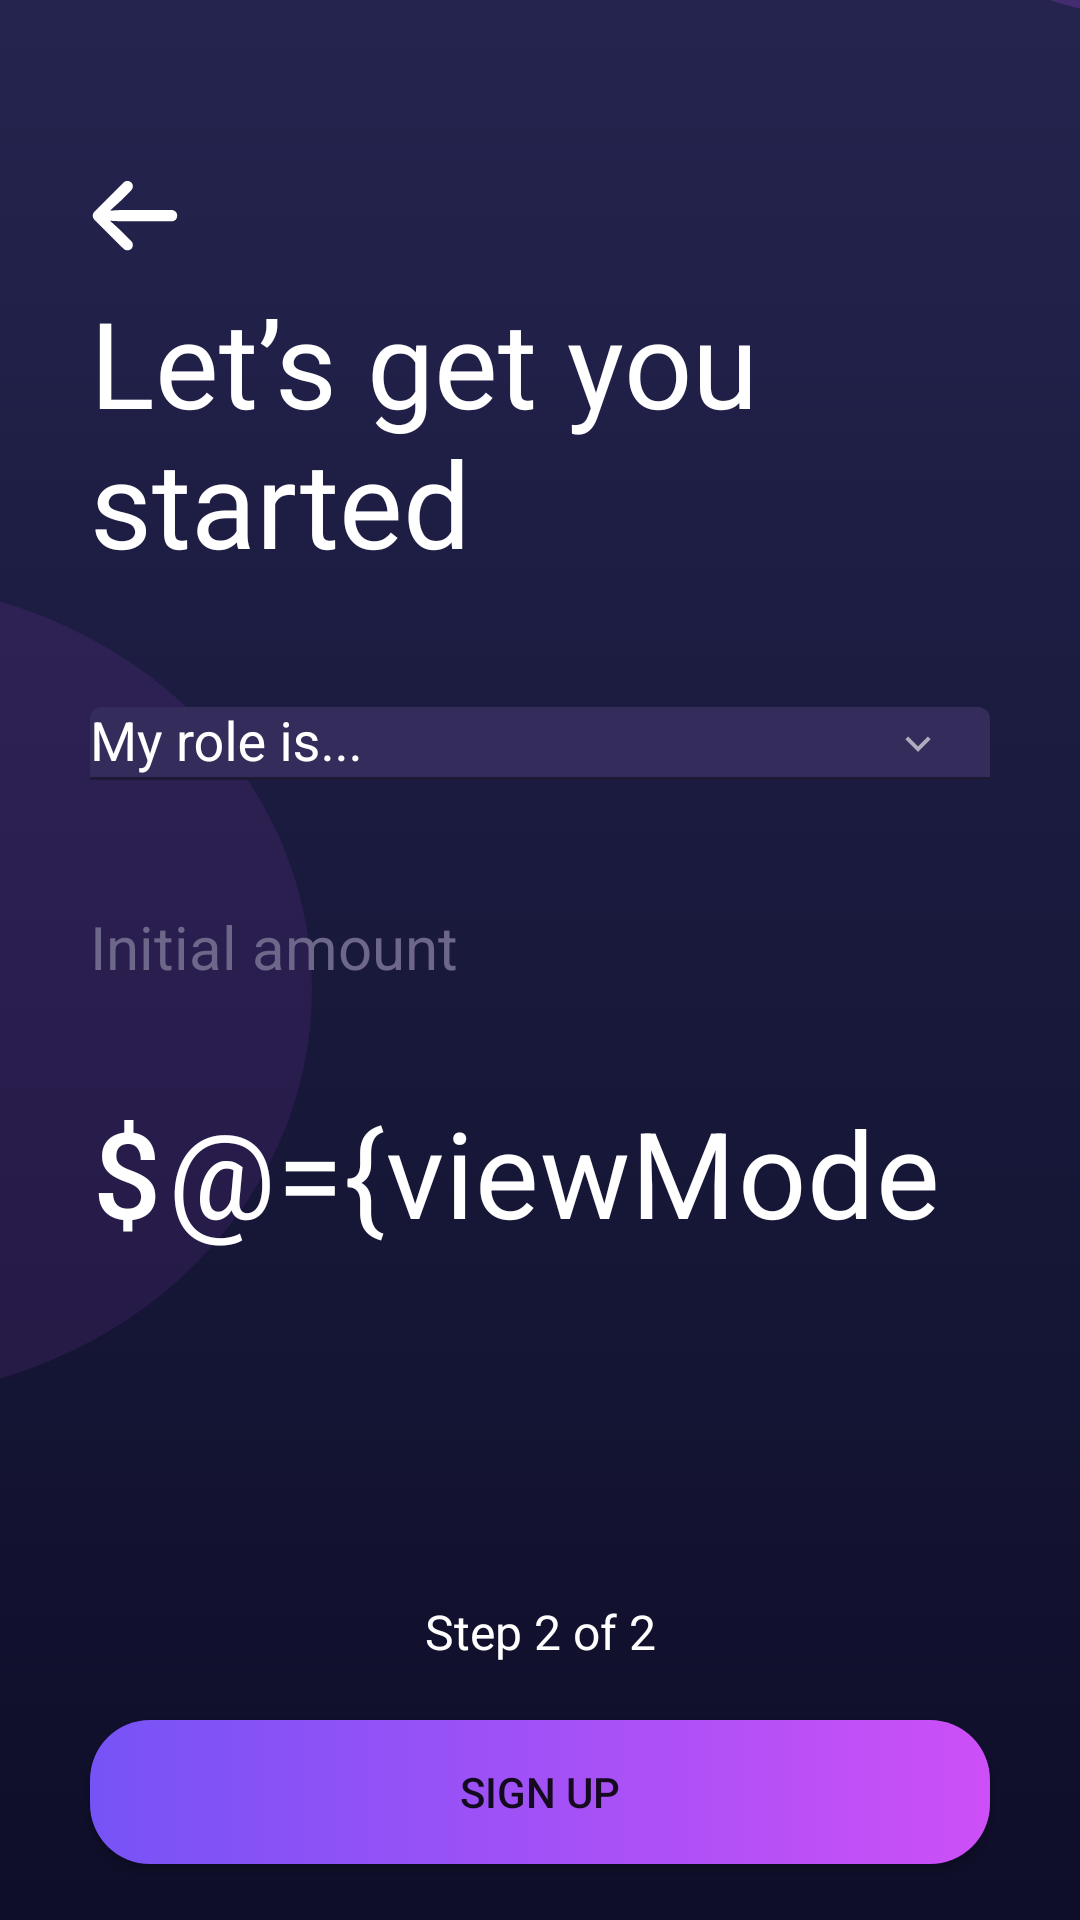

Screen size 1080*1920. Icon name, then its box in pixels as (x1, y1, x2, y2):
back arrow: (92, 181, 178, 251)
